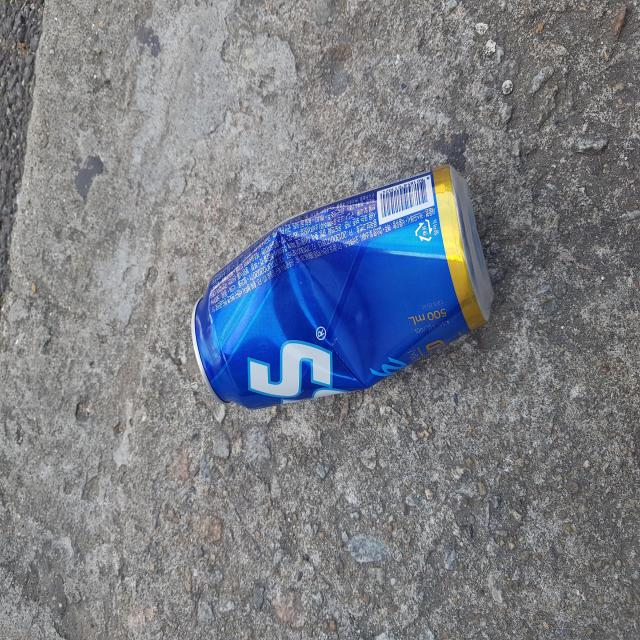can: (192, 164, 494, 409)
